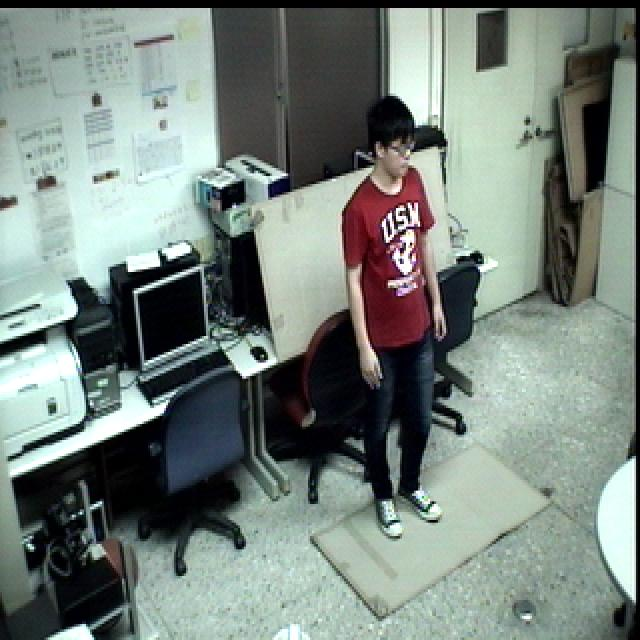stand: (335, 56, 450, 542)
